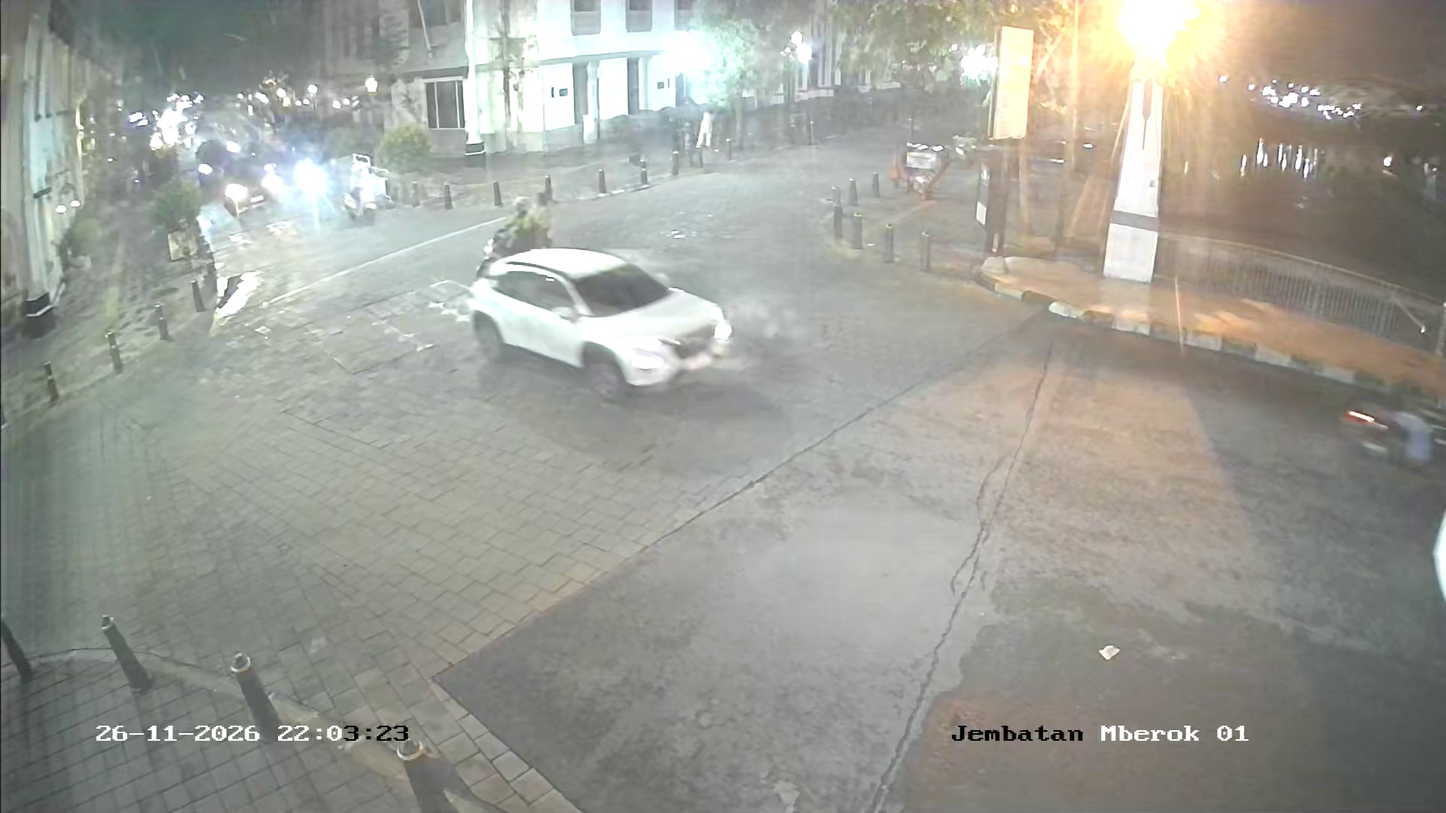Gerobak: (888, 141, 962, 199)
